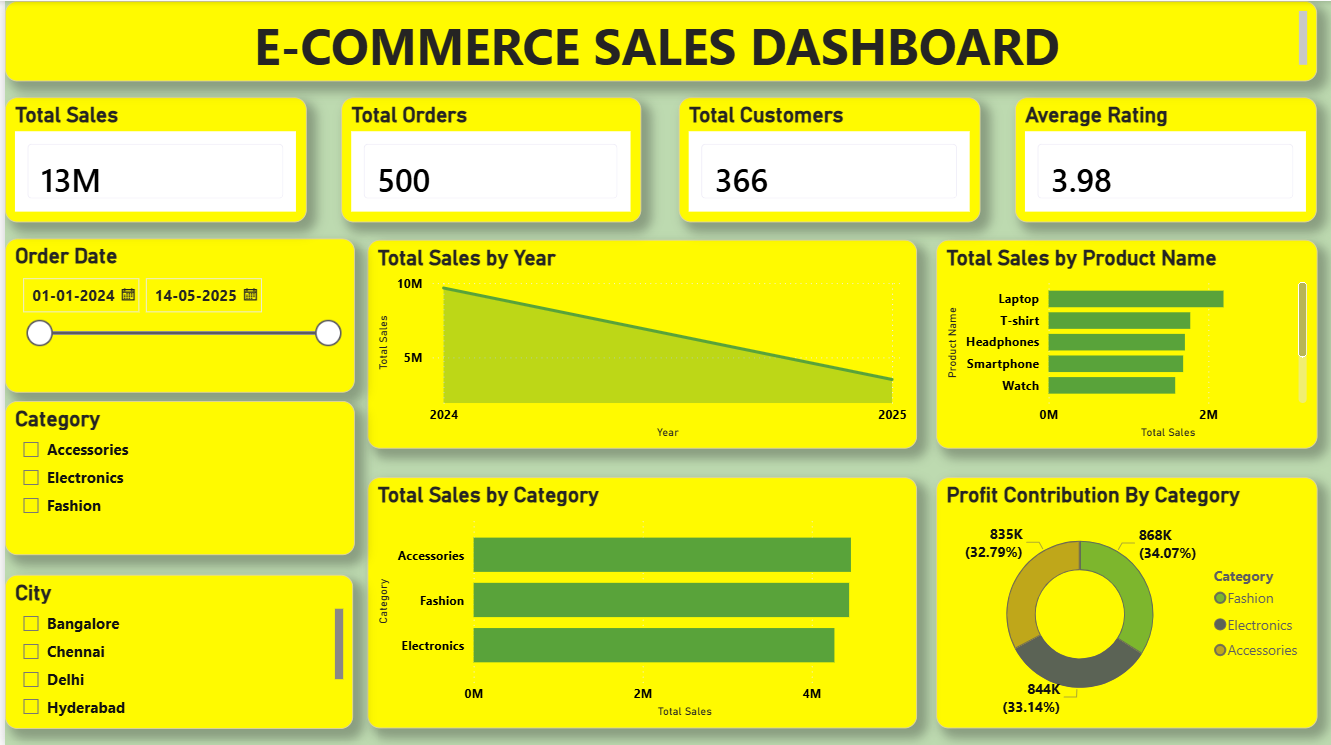

This screenshot's page, from the dashboard's own definition file:
{"tool":"powerbi","page":{"name":"Page 1","canvas":[1280,720],"ordinal":0},"visuals":[{"type":"areaChart","fields":{"Category":["ecommerce.Order Date.Variation.Date Hierarchy.Year","ecommerce.Order Date.Variation.Date Hierarchy.Quarter","ecommerce.Order Date.Variation.Date Hierarchy.Month","ecommerce.Order Date.Variation.Date Hierarchy.Day"],"Y":["ecommerce.Total Sales"]},"box":[349.7,229.9,530.7,201.8],"z":0},{"type":"donutChart","title":"Profit Contribution By Category","fields":{"Category":["ecommerce.Category"],"Y":["Sum(ecommerce.Profit)"]},"box":[898.8,459.8,368.1,242.1],"z":1000},{"type":"clusteredBarChart","fields":{"Category":["ecommerce.Category"],"Y":["ecommerce.Total Sales"]},"box":[349.7,459.8,530.7,242.1],"z":2000},{"type":"barChart","fields":{"Category":["ecommerce.Product Name"],"Y":["ecommerce.Total Sales"]},"box":[898.8,229.9,368.1,201.8],"z":3000},{"type":"slicer","title":"Order Date ","fields":{"Values":["ecommerce.Order Date"]},"box":[0,229.4,337.6,148.6],"z":4000},{"type":"slicer","title":"Category","fields":{"Values":["ecommerce.Category"]},"box":[0,386.7,337.6,148.6],"z":5000},{"type":"slicer","title":"City","fields":{"Values":["ecommerce.City"]},"box":[0,554,336.2,148.6],"z":6000},{"type":"cardVisual","title":"Total Sales","fields":{"Data":["ecommerce.Total Sales"]},"box":[0,92.3,291.4,121.2],"z":7000},{"type":"cardVisual","title":"Total Orders","fields":{"Data":["ecommerce.Total Orders"]},"box":[324.6,92.3,290,121.2],"z":8000},{"type":"cardVisual","title":"Average Rating","fields":{"Data":["ecommerce.Avg Rating"]},"box":[975.3,92.3,291.4,121.2],"z":9000},{"type":"cardVisual","title":"Total Customers","fields":{"Data":["ecommerce.Total Customers"]},"box":[650.7,92.3,291.4,121.2],"z":10000},{"type":"textbox","box":[0,0,1266.7,77.3],"z":11000}]}

Visuals, with their boxes in screenshot pixels (x1, y1, x2, y2), scaled from the page's 1280x720 canvas onto the 1331x745 screenshot:
areaChart - ecommerce.Order Date.Variation.Date Hierarchy.Year x ecommerce.Order Date.Variation.Date Hierarchy.Quarter: select_region(364, 238, 915, 447)
"Profit Contribution By Category" donutChart: select_region(935, 476, 1317, 726)
clusteredBarChart - ecommerce.Category x ecommerce.Total Sales: select_region(364, 476, 915, 726)
barChart - ecommerce.Product Name x ecommerce.Total Sales: select_region(935, 238, 1317, 447)
"Order Date " slicer: select_region(0, 237, 351, 391)
"Category" slicer: select_region(0, 400, 351, 554)
"City" slicer: select_region(0, 573, 350, 727)
"Total Sales" cardVisual: select_region(0, 96, 303, 221)
"Total Orders" cardVisual: select_region(338, 96, 639, 221)
"Average Rating" cardVisual: select_region(1014, 96, 1317, 221)
"Total Customers" cardVisual: select_region(677, 96, 980, 221)
textbox: select_region(0, 0, 1317, 80)
